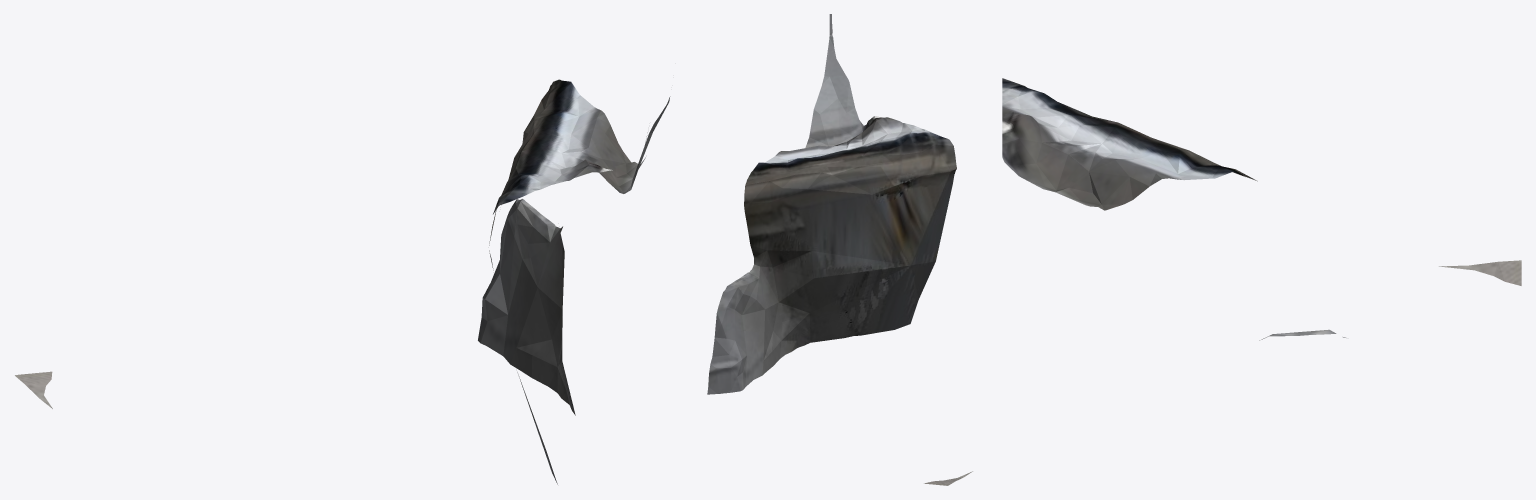
3 views of the same model, side by side, from view 1: azimuth 30°, elevation 25°; view 2: azimuth 150°, elevation 25°; view 3: azimuth 270°, elevation 25° (orthographic). The views are drawn at different scales.
Bounding box in the file's own units: 0.8374 × 0.8374 × 0.8373.
Materials: 2 (2 with a texture image).
